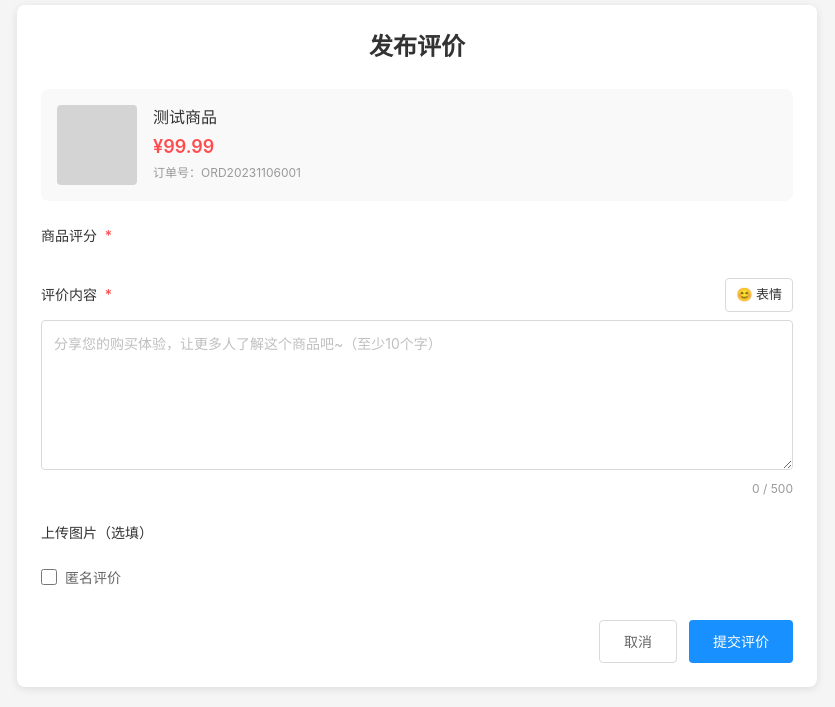
ReviewCreate - 评价发布页 › 应该显示字数统计
Type "测试内容" into the text box with placeholder "分享您的购买体验，让更多人了解这个商品吧~（至少10个字）". click: x=417, y=394
box: x1=41 y1=320 x2=793 y2=470
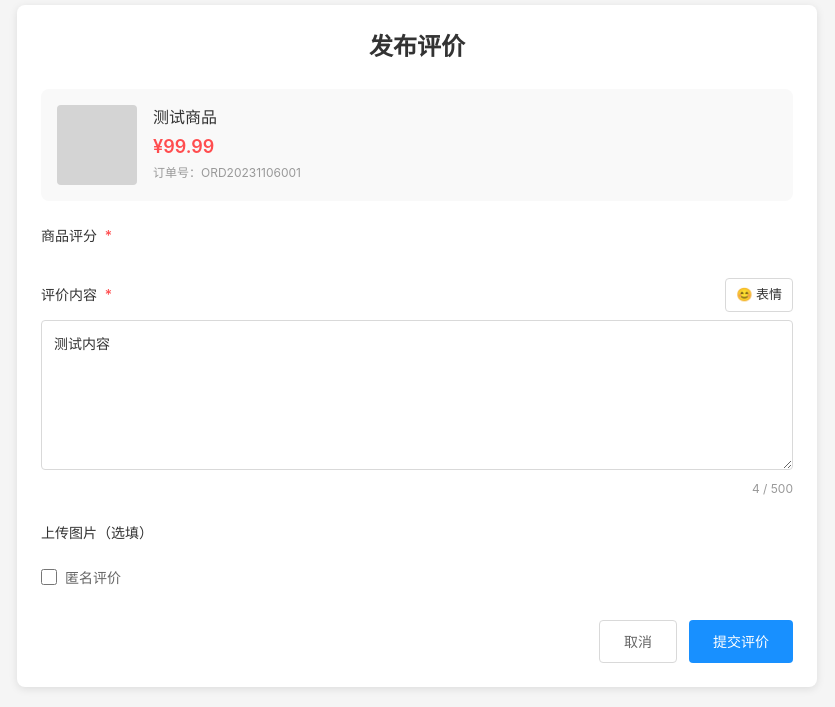
Expected: the text "4 / 500" is shown, x1=752 y1=480 x2=793 y2=496
